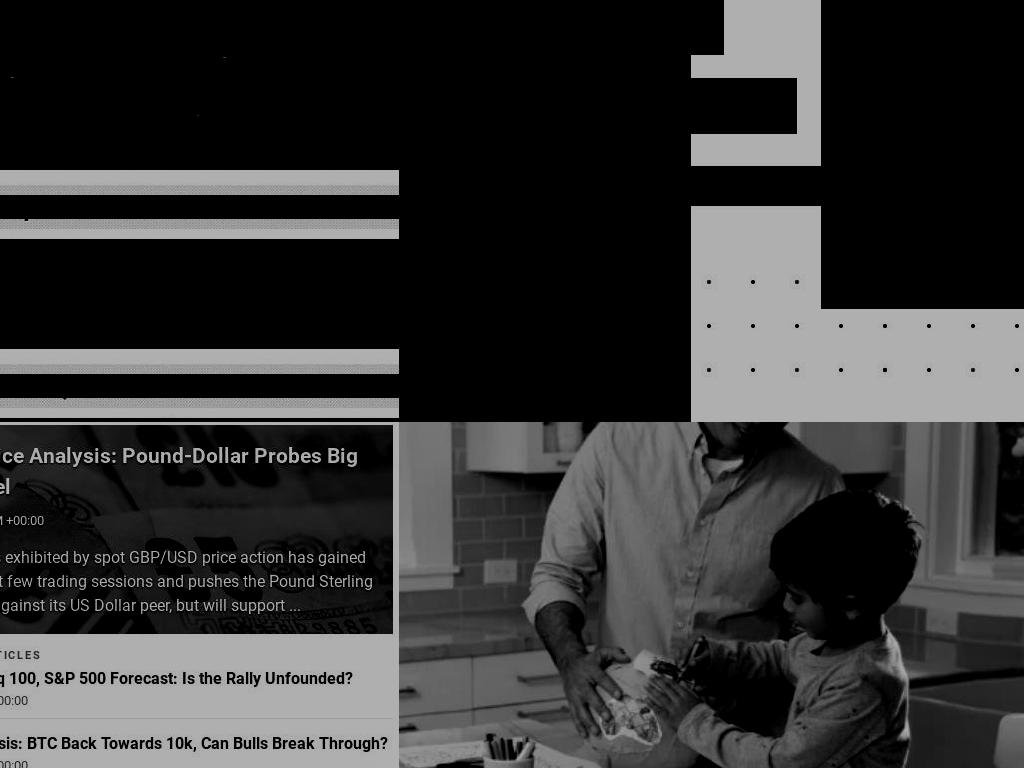button: (0, 425, 393, 634), (821, 0, 1024, 309), (0, 666, 393, 719), (0, 730, 393, 768), (632, 166, 825, 206), (441, 166, 625, 206), (173, 418, 399, 422), (0, 648, 42, 664)
heading: (441, 78, 797, 134), (441, 0, 724, 55), (0, 195, 399, 219), (0, 374, 399, 398), (0, 37, 84, 77), (133, 37, 277, 57), (326, 37, 399, 57)
image: (821, 0, 1024, 306), (144, 0, 265, 22), (644, 175, 665, 196)
link: (0, 546, 377, 618), (0, 441, 377, 503), (0, 511, 377, 530), (326, 66, 399, 104)
text: (399, 0, 691, 422), (0, 239, 399, 349), (0, 733, 388, 753), (0, 668, 353, 688), (133, 67, 277, 115), (0, 87, 84, 135), (672, 179, 807, 194)
